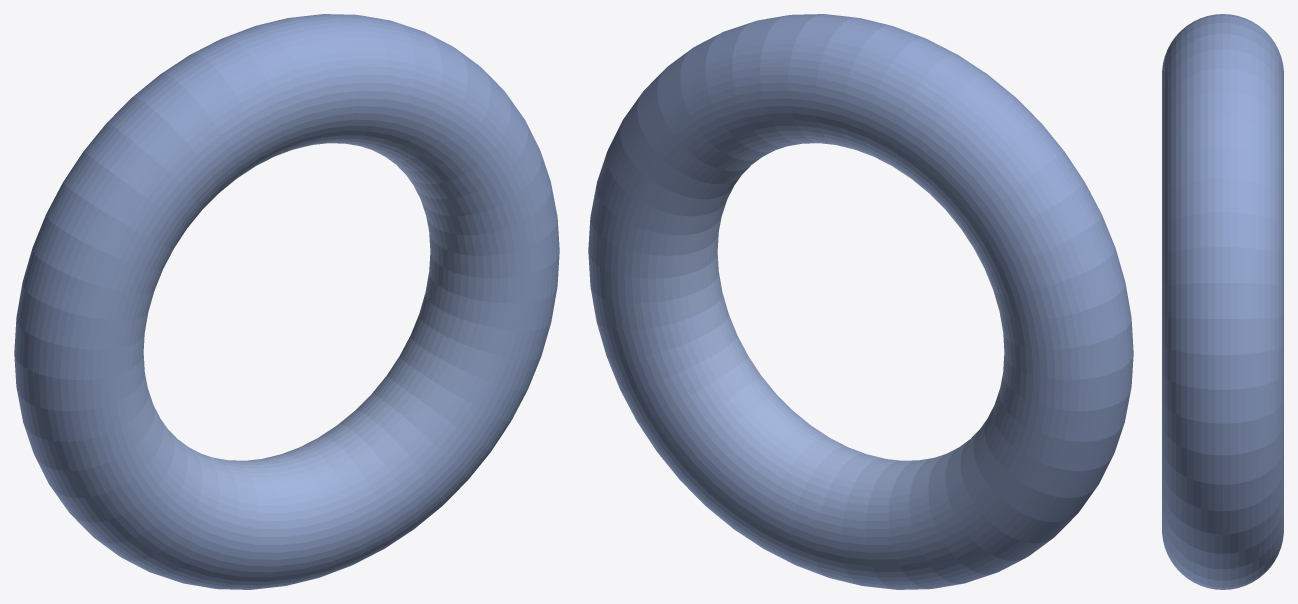
The picture shows the model from 3 angles, left to right: view 1: azimuth 30°, elevation 25°; view 2: azimuth 150°, elevation 25°; view 3: azimuth 270°, elevation 25°; orthographic projection. The views are drawn at different scales.
Visible parts, largest first — view 1: world; view 2: world; view 3: world.
Boxes of the visible parts, x1=… form: world: x1=14, y1=14, x2=559, y2=589; world: x1=588, y1=14, x2=1133, y2=589; world: x1=1162, y1=14, x2=1283, y2=589.
Bounding box in the file's own units: 22 × 21.96 × 4.66.
